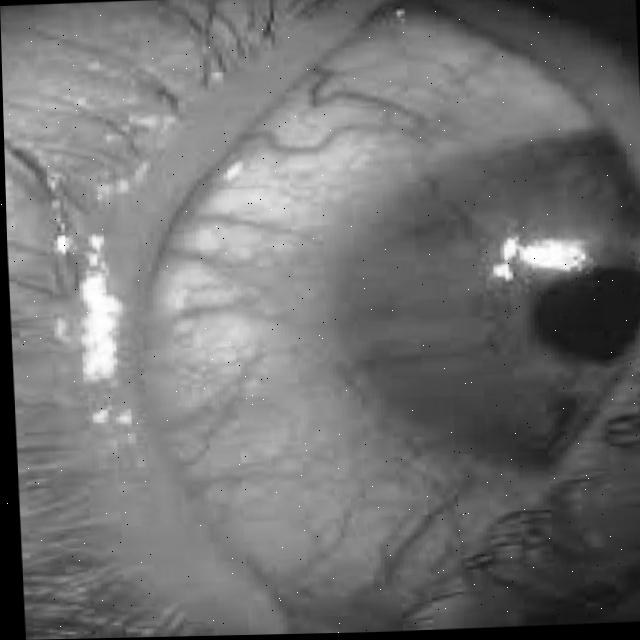Rosacea: (134, 0, 640, 620)
